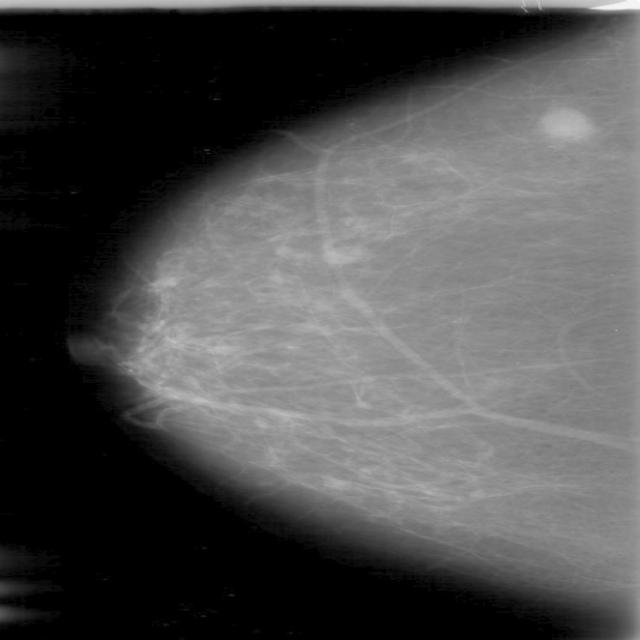tumour: (536, 105, 594, 141)
